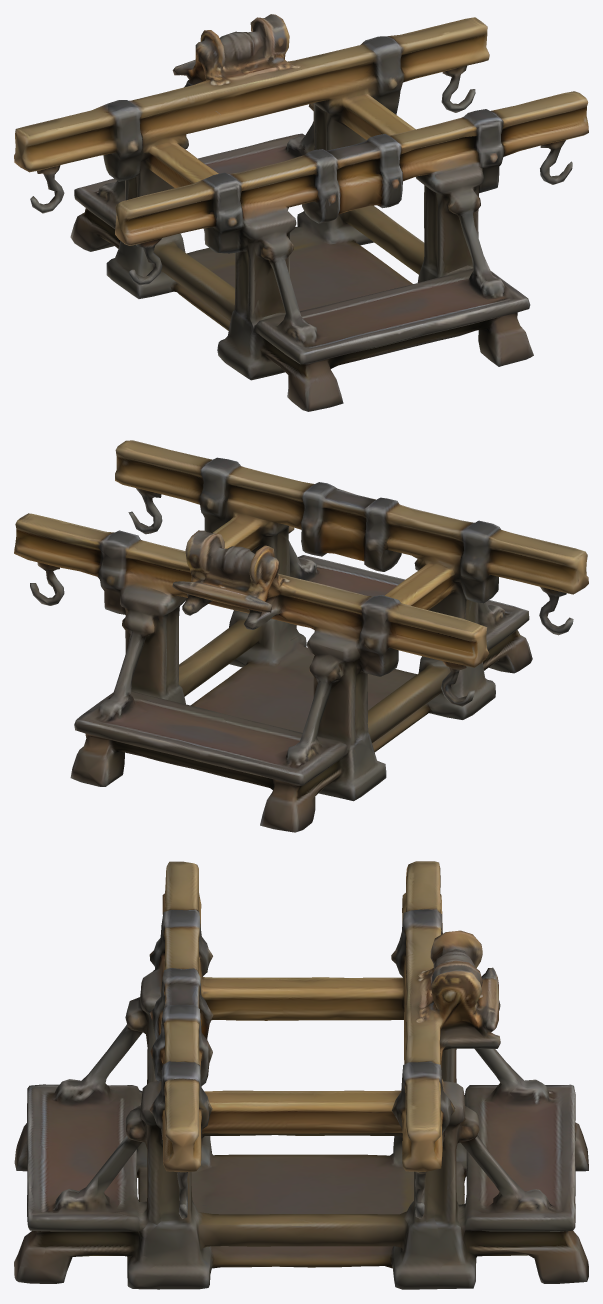
Rendered from Brasswake small scout craft cradle.glb.
The picture shows the model from 3 angles, top to bottom: view 1: azimuth 30°, elevation 25°; view 2: azimuth 150°, elevation 25°; view 3: azimuth 270°, elevation 25°; orthographic projection. The views are drawn at different scales.
Parts seen in each view (by area): view 1: LiftingFrame; view 2: LiftingFrame; view 3: LiftingFrame.
Part boxes in pixels (bbox=[...]): LiftingFrame: bbox=[14, 14, 588, 411]; LiftingFrame: bbox=[14, 440, 588, 832]; LiftingFrame: bbox=[14, 861, 588, 1289].
Size of the model in its own units: 1.6 by 0.7441 by 1.43.
Materials: 1 (1 with a texture image).
